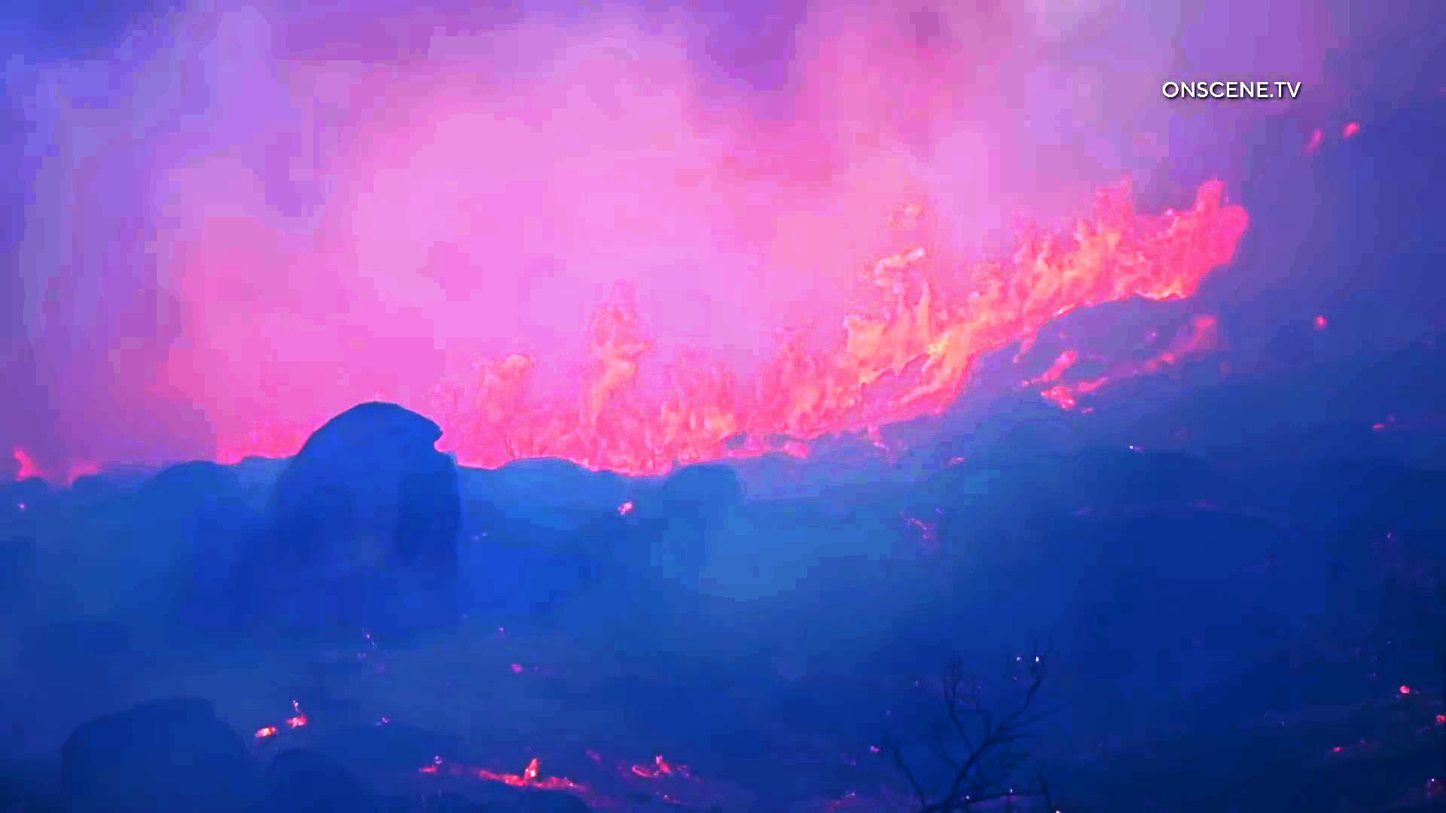fire: (712, 232, 968, 438), (454, 288, 716, 464), (942, 190, 1249, 329)
